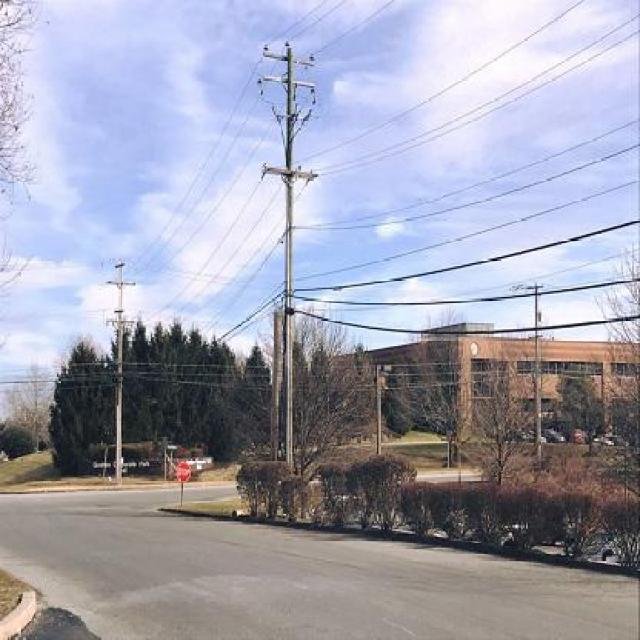pole: (251, 39, 329, 462), (98, 254, 137, 478)
